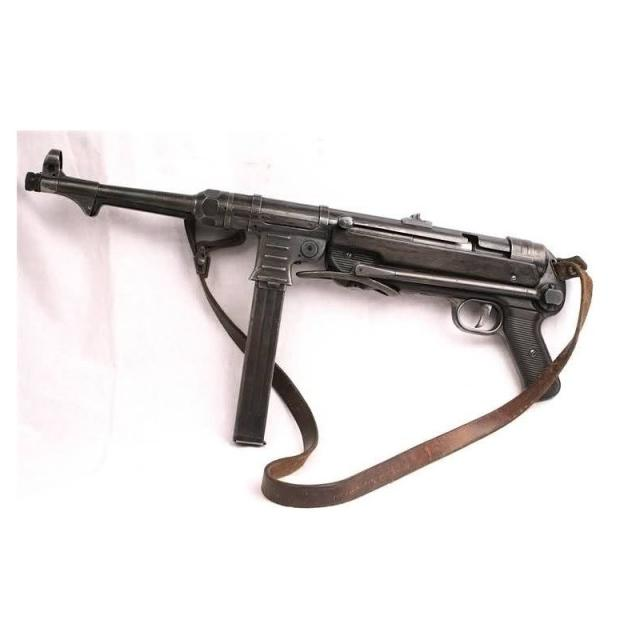SMG: (24, 150, 586, 450)
